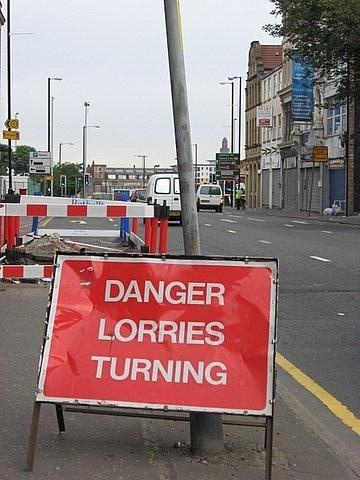car: (146, 175, 183, 226), (197, 185, 224, 215), (131, 190, 149, 203)
